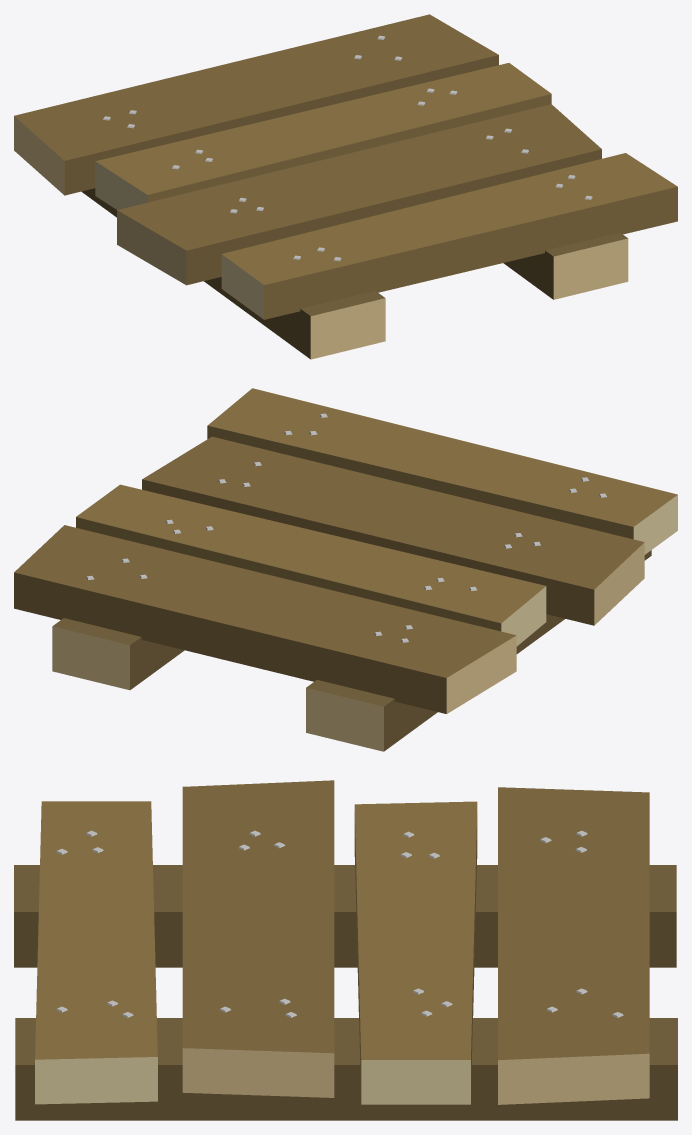
Rendered from SM_Pallet.fbx.
The picture shows the model from 3 angles, top to bottom: view 1: azimuth 30°, elevation 25°; view 2: azimuth 150°, elevation 25°; view 3: azimuth 270°, elevation 25°; orthographic projection. The views are drawn at different scales.
Visible parts, largest first — view 1: SM_Pallet_LOD0; view 2: SM_Pallet_LOD0; view 3: SM_Pallet_LOD0.
Boxes of the visible parts, x1,y1,x2,y2 form: SM_Pallet_LOD0: (14,14,677,359); SM_Pallet_LOD0: (14,388,677,751); SM_Pallet_LOD0: (14,780,677,1120).
Size of the model in its own units: 133 by 133 by 21.82.
1 material, 1 textured.
